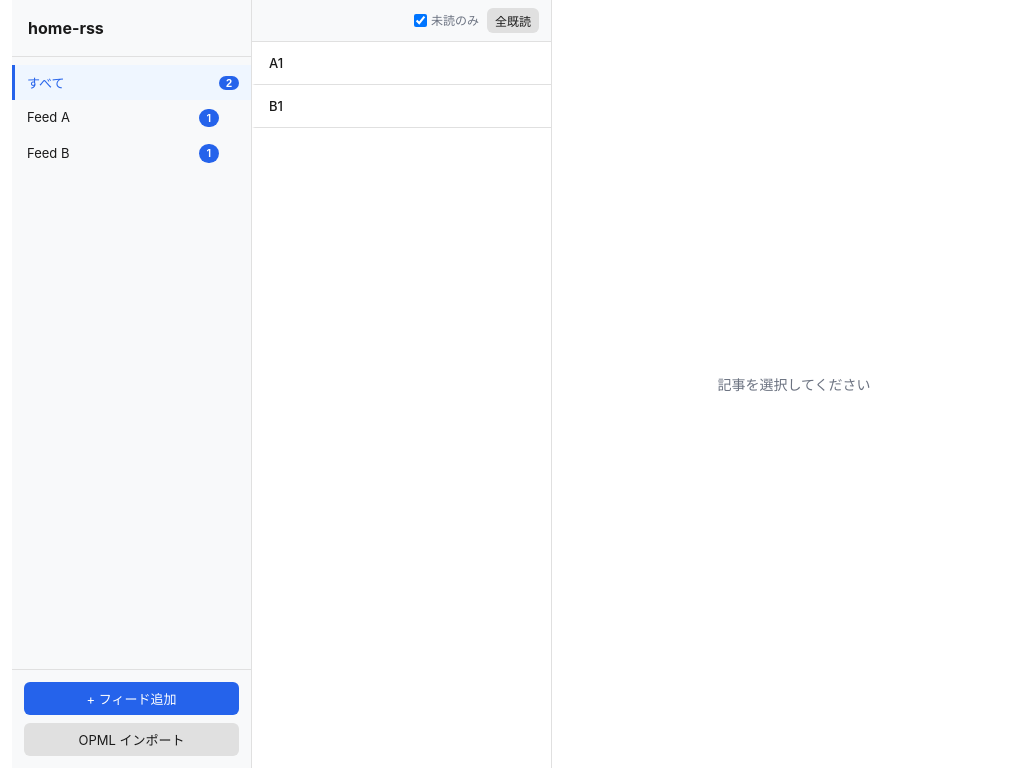
App › marking everything read › clears the counts and the unread list once the server confirms
The image size is (1036, 768).
Click the button "全既読" at [513, 20], box x1=487 y1=8 x2=539 y2=33
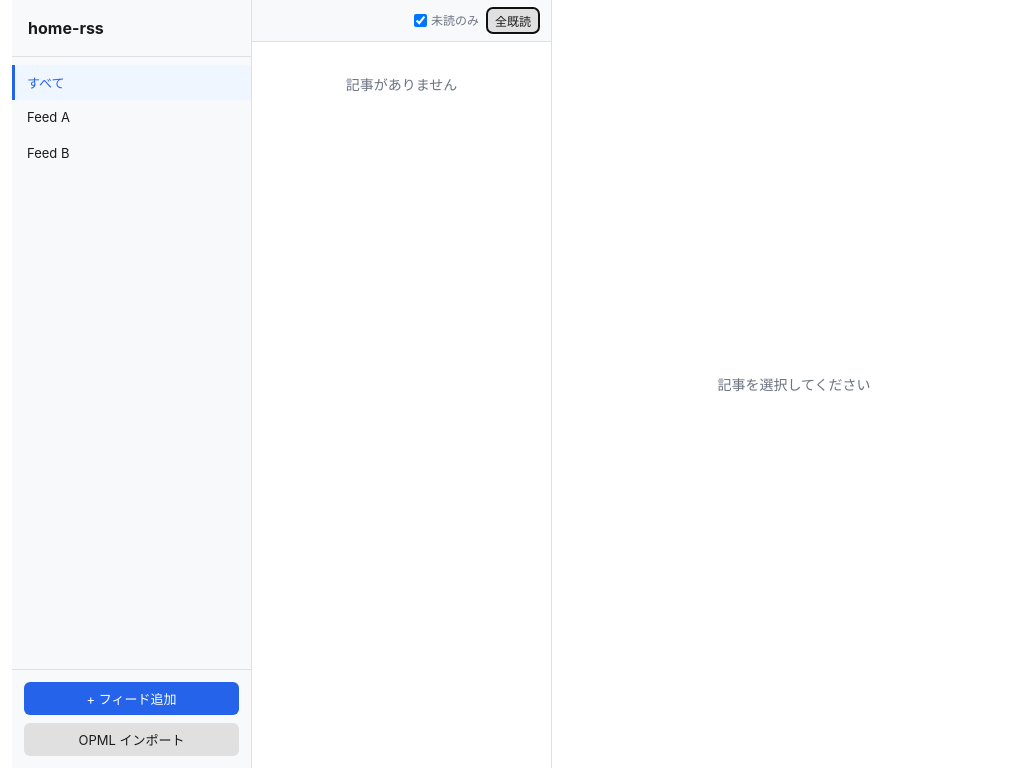
Expected: the text with class "unread-badge" is gone
Expected: the text "記事がありません" is shown, x1=346 y1=76 x2=457 y2=93
